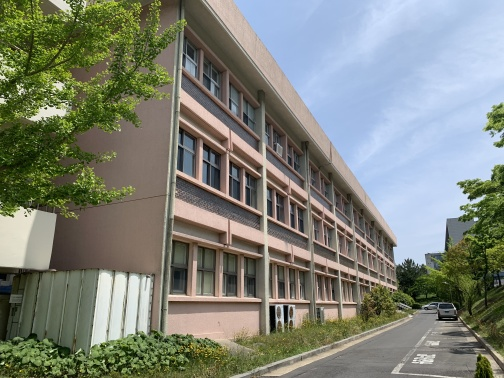College Of Education: (71, 25, 399, 362)
